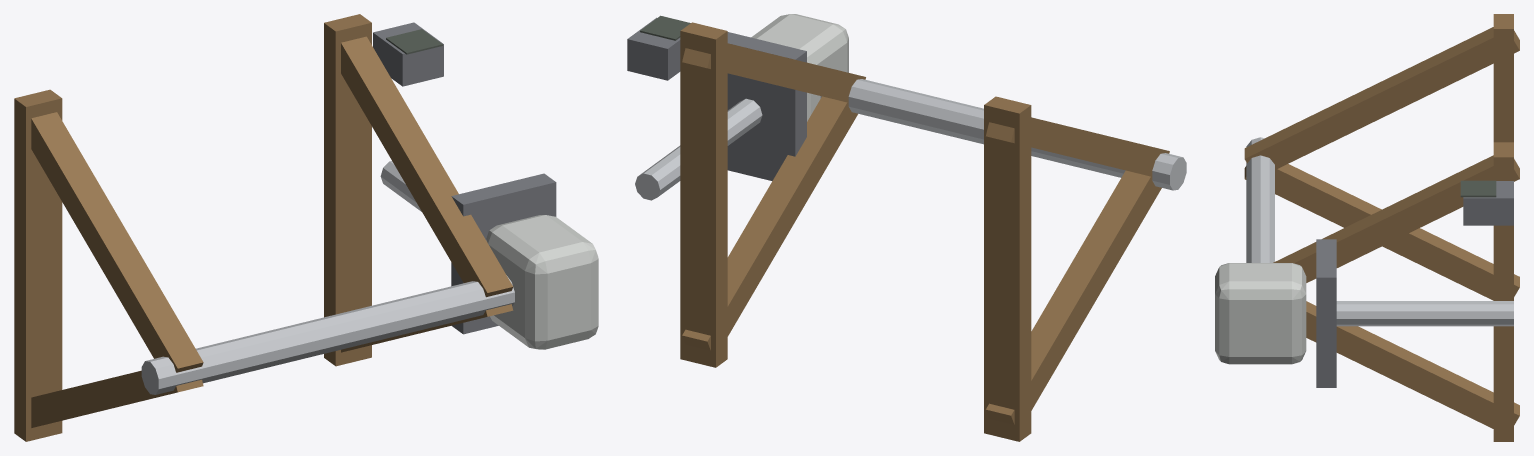
The model's file is hydro.obj.
3 views of the same model, side by side, from view 1: azimuth 30°, elevation 25°; view 2: azimuth 150°, elevation 25°; view 3: azimuth 270°, elevation 25° (orthographic). The views are drawn at different scales.
Bounding box in the file's own units: 0.85 × 0.62 × 0.6018.
1 material, 1 textured.
